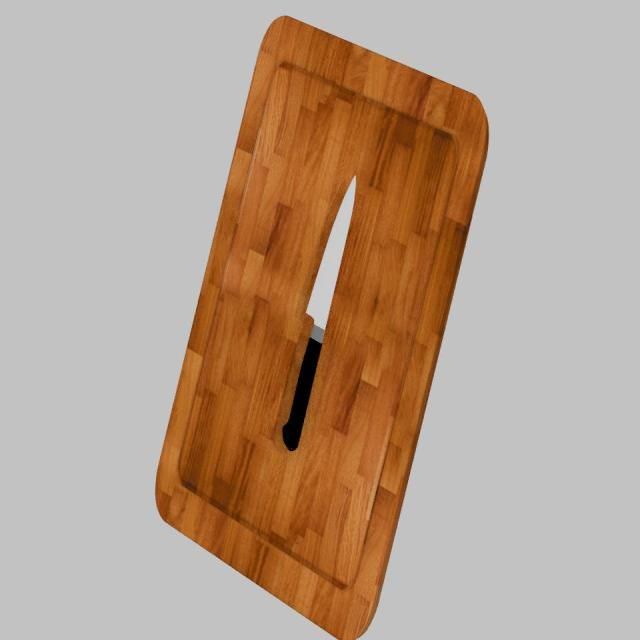knife: (282, 336, 322, 452)
